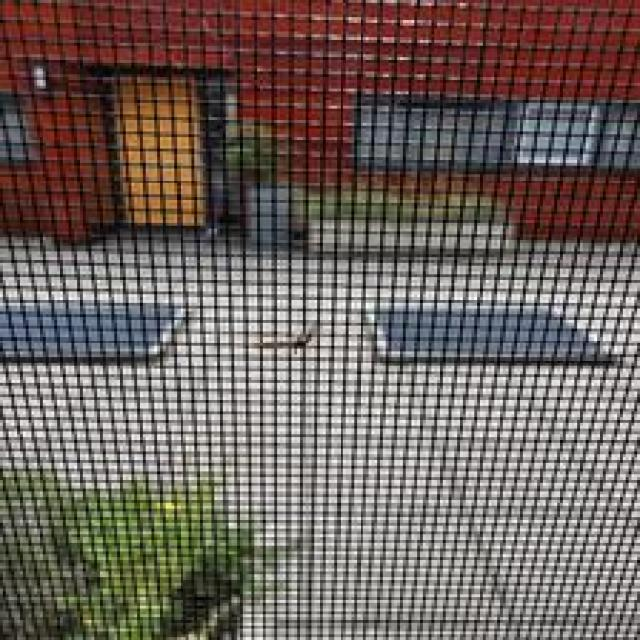Culex: (362, 300, 622, 366)
